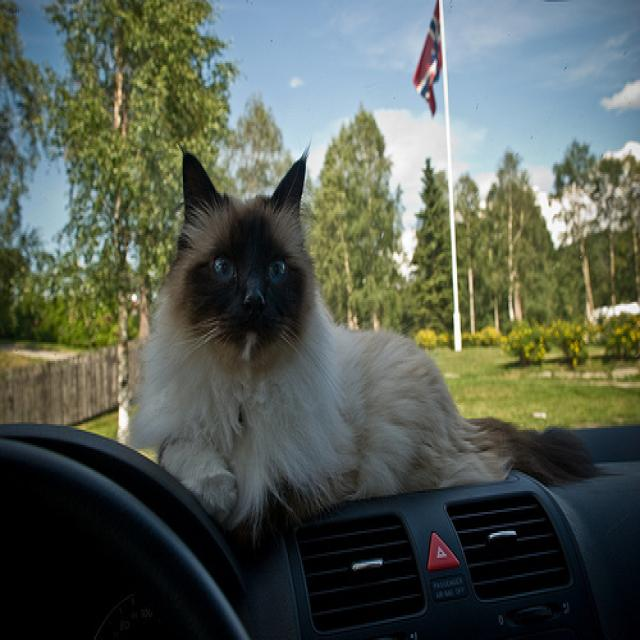cat: (176, 149, 304, 357)
